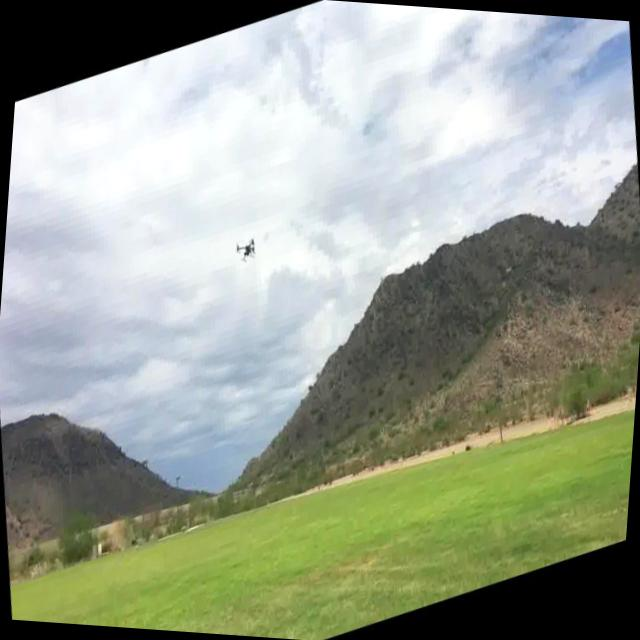drone: (230, 230, 259, 272)
